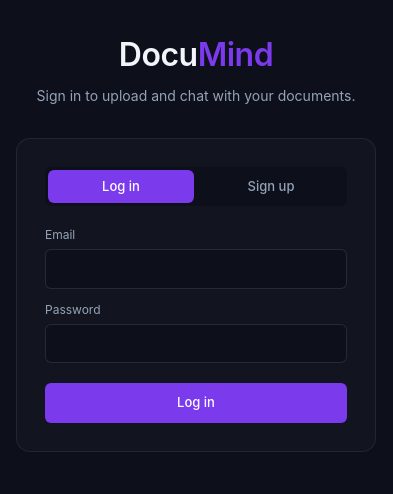
Test: signup no longer logs the user in › clears the info message when the user manually switches tabs
Click the text "Sign up" at (271, 186), box left=248, top=178, right=294, bottom=194
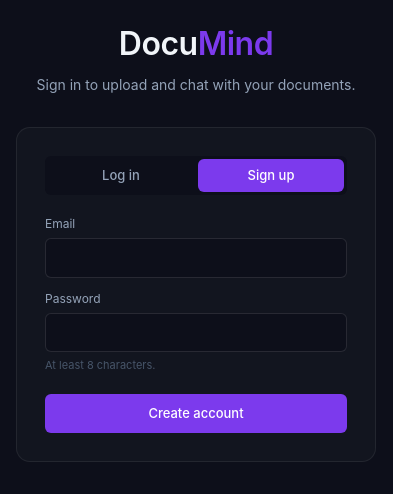
Type "new@example.com" into the field labelled "Email" at (196, 258), box left=45, top=238, right=347, bottom=278
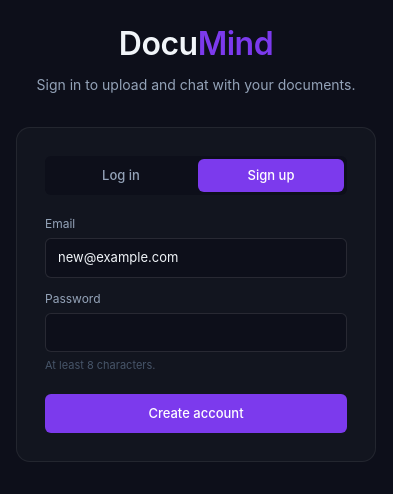
Type "a-real-password-1" into the password field labelled "Password" at (196, 333), box left=45, top=313, right=347, bottom=352
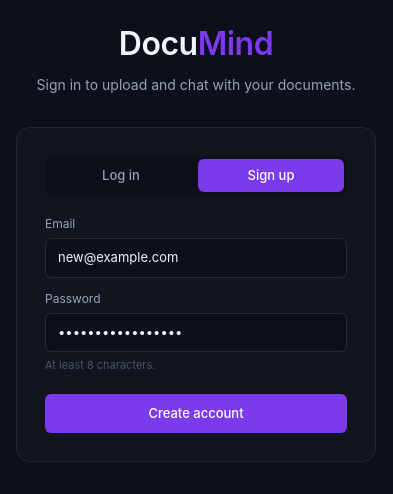
Click the button "Create account" at (196, 414), box left=45, top=394, right=347, bottom=433
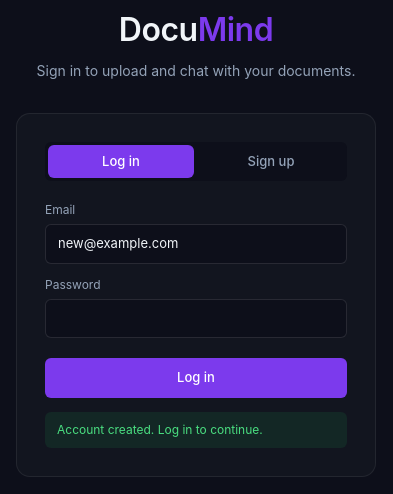
Expected: the text "Account created. Log in to continue." is shown, left=45, top=412, right=347, bottom=448
Click the text "Sign up" at (271, 160), box left=248, top=152, right=294, bottom=168
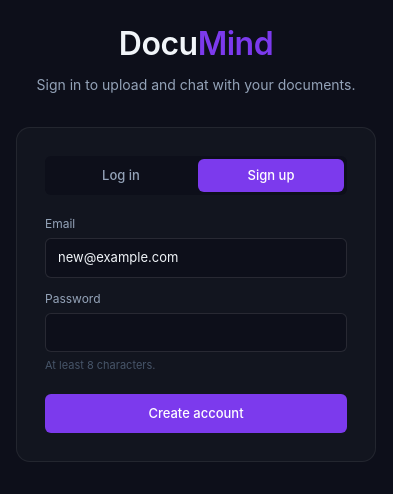
Expected: the text "Account created. Log in to continue." is gone
